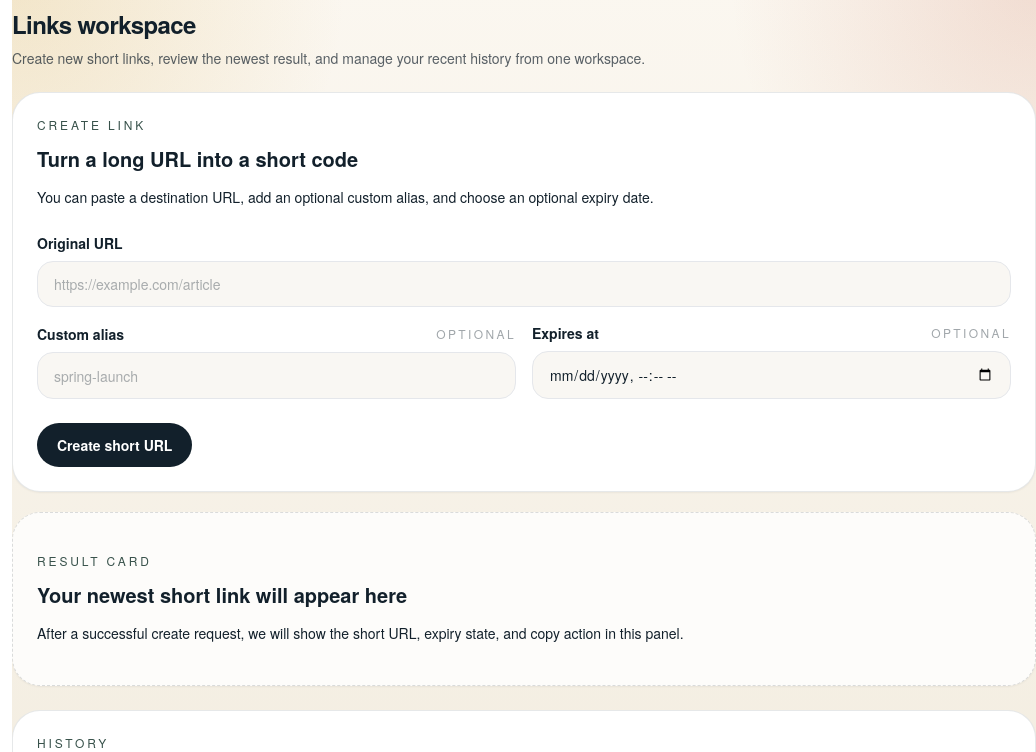
it: LinksPage › creates a short url and shows the newest result card
In the field labelled "Original URL": (524, 284) [37, 261, 1011, 307], type "  https://example.com/launch  "
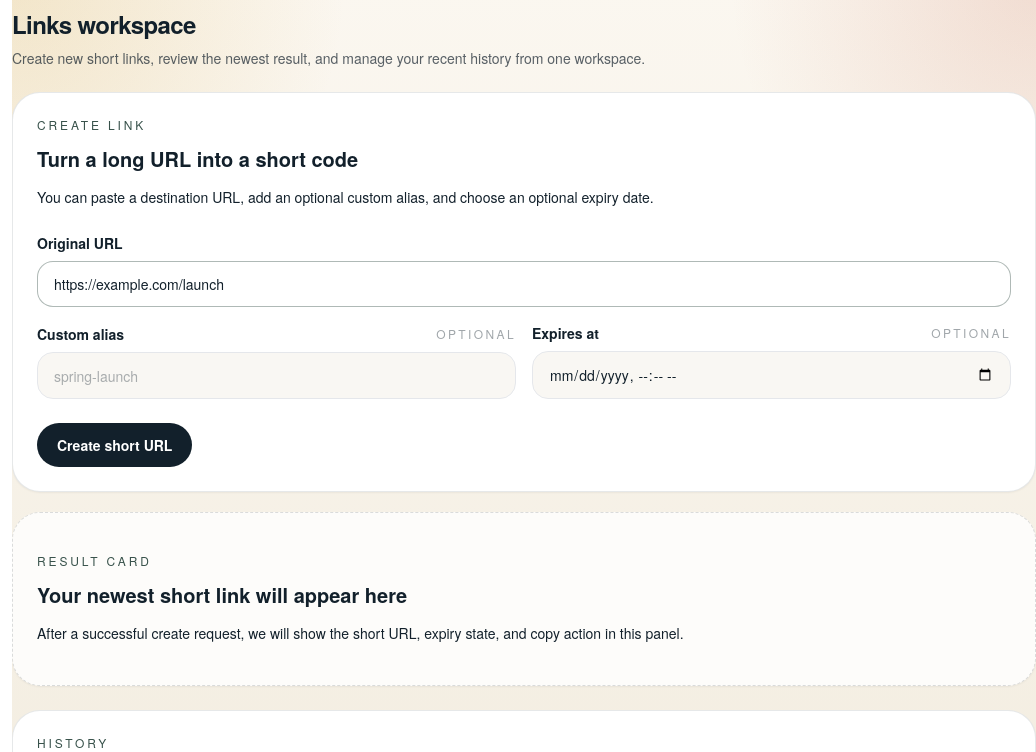
Click the button "Create short URL": (115, 445) [37, 423, 192, 467]
(page scrolled)
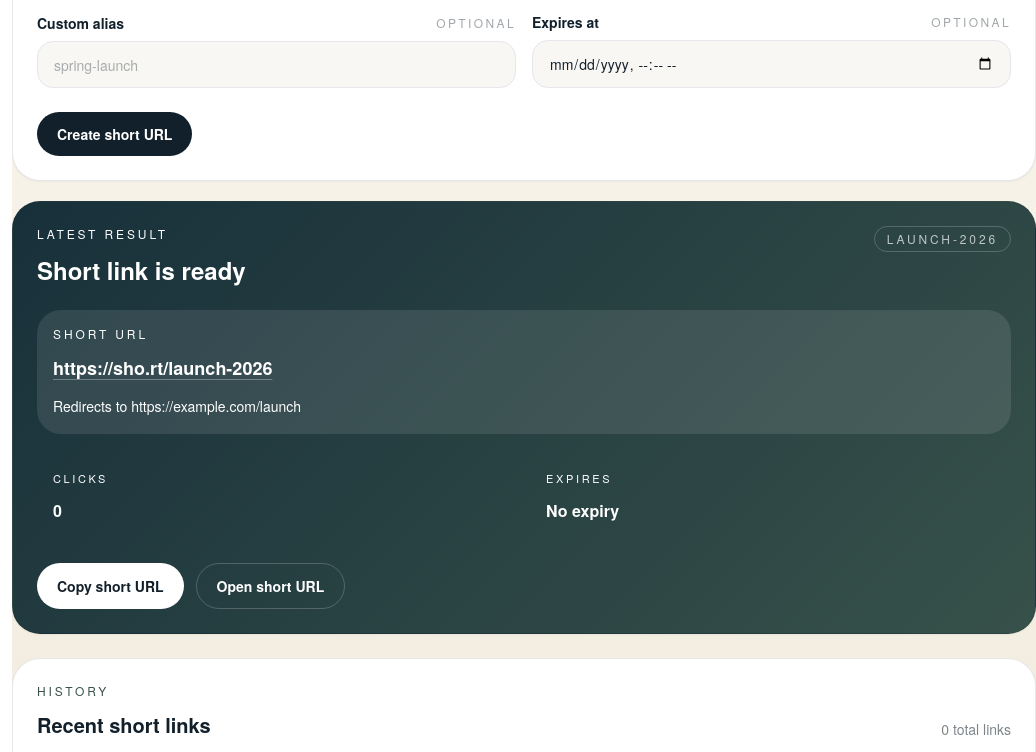
Check: the heading "Short link is ready" is shown, box [37, 254, 246, 286]
Check: the link "https://sho.rt/launch-2026" is shown, box [53, 355, 272, 381]
